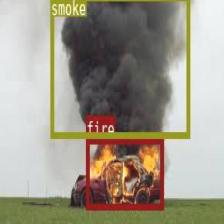fire: (86, 138, 162, 208)
smoke: (50, 0, 188, 137)
